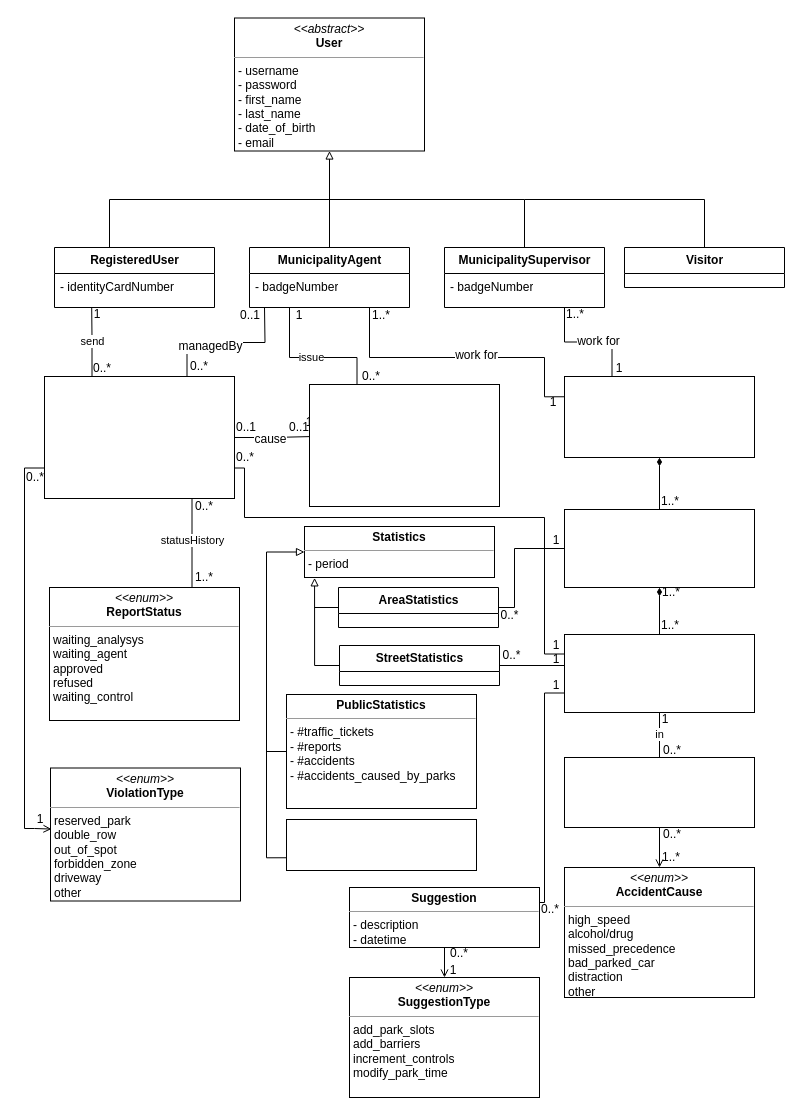
Image size: 802x1115. Some labels were removed from this diagram. Each missing label, with the centre of its shape:
"Accident - gps_location - description" goes at (x=659, y=792).
"Area - name - delimitingPoints" goes at (x=659, y=548).
"Municipality - name - gps_location" goes at (x=659, y=417).
"ReservedStatistics - most_egregious_offender" goes at (x=381, y=844).
"Street - name - delimitingPoints" goes at (x=659, y=673).
"TrafficTicket - amount - location - license plate - description - datetime" goes at (x=404, y=445).
"ViolationReport - gps_position - datetime - license plate" goes at (x=139, y=437).
